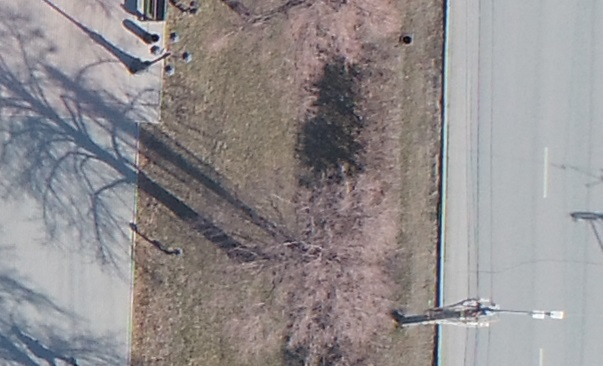opora: (384, 290, 567, 334)
